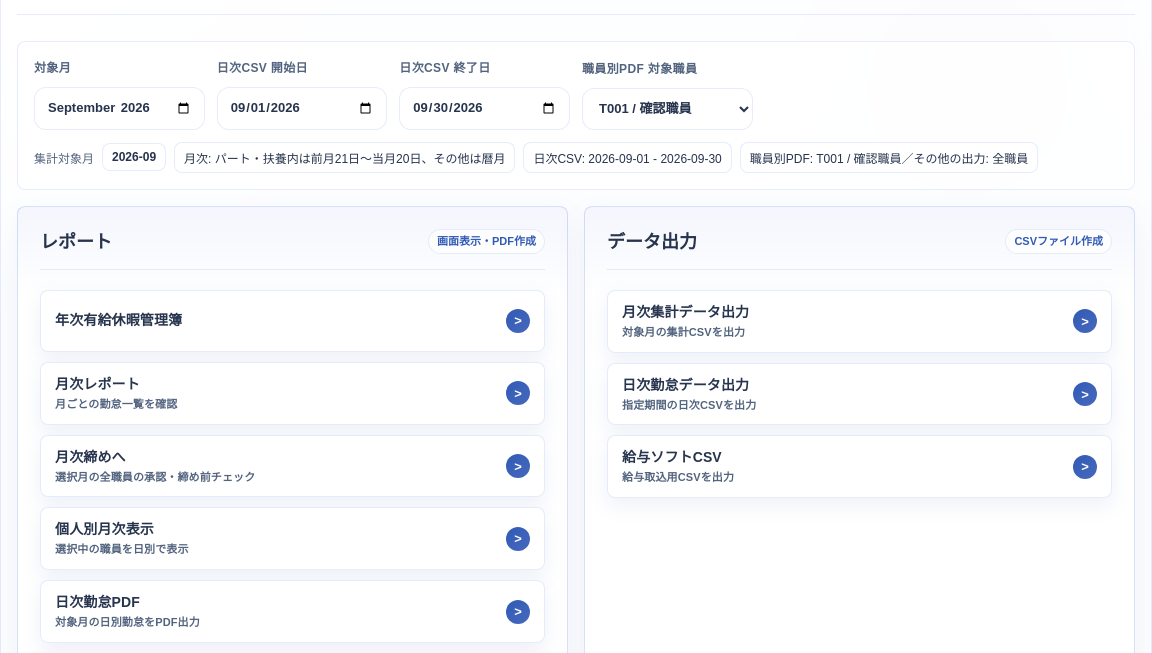
it: report scope and month › shows original punches separately from adopted corrections and leave hours
Click the button "個人別月次表示 選択中の職員を日別で表示".
click(104, 529)  # box [40,507,545,570]
(page scrolled)
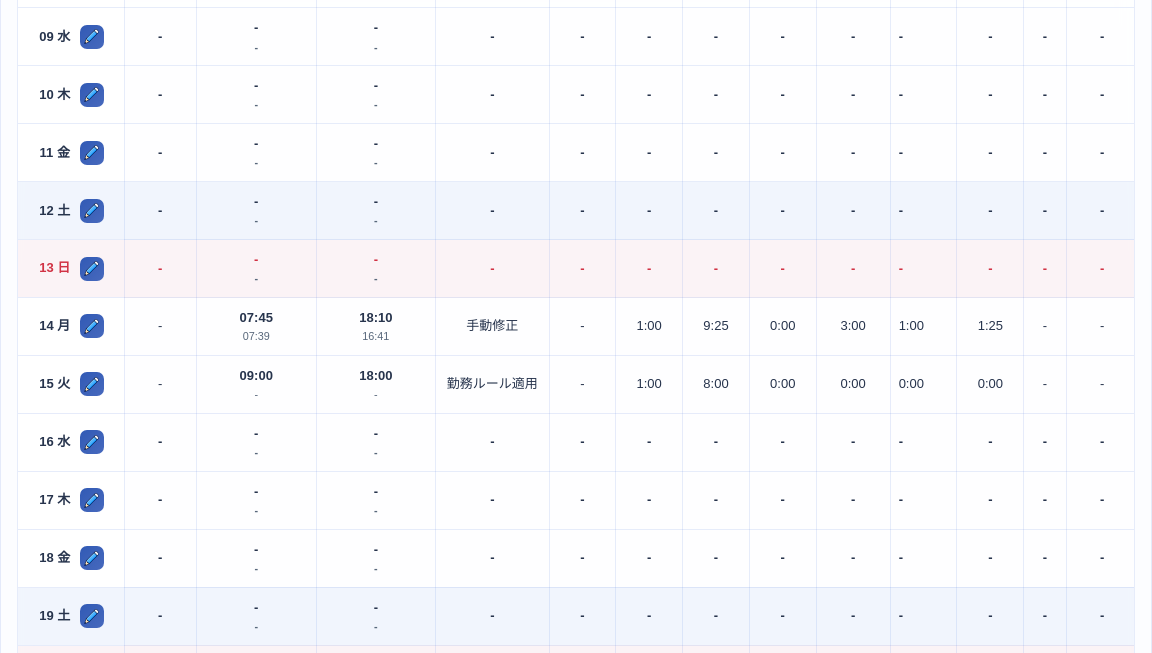
Result: the text "手動修正" is shown at [436,298,549,355]
Result: the text "勤務ルール適用" is shown at [436,356,549,413]
Result: the text "18:10" is shown at [359,310,392,325]
